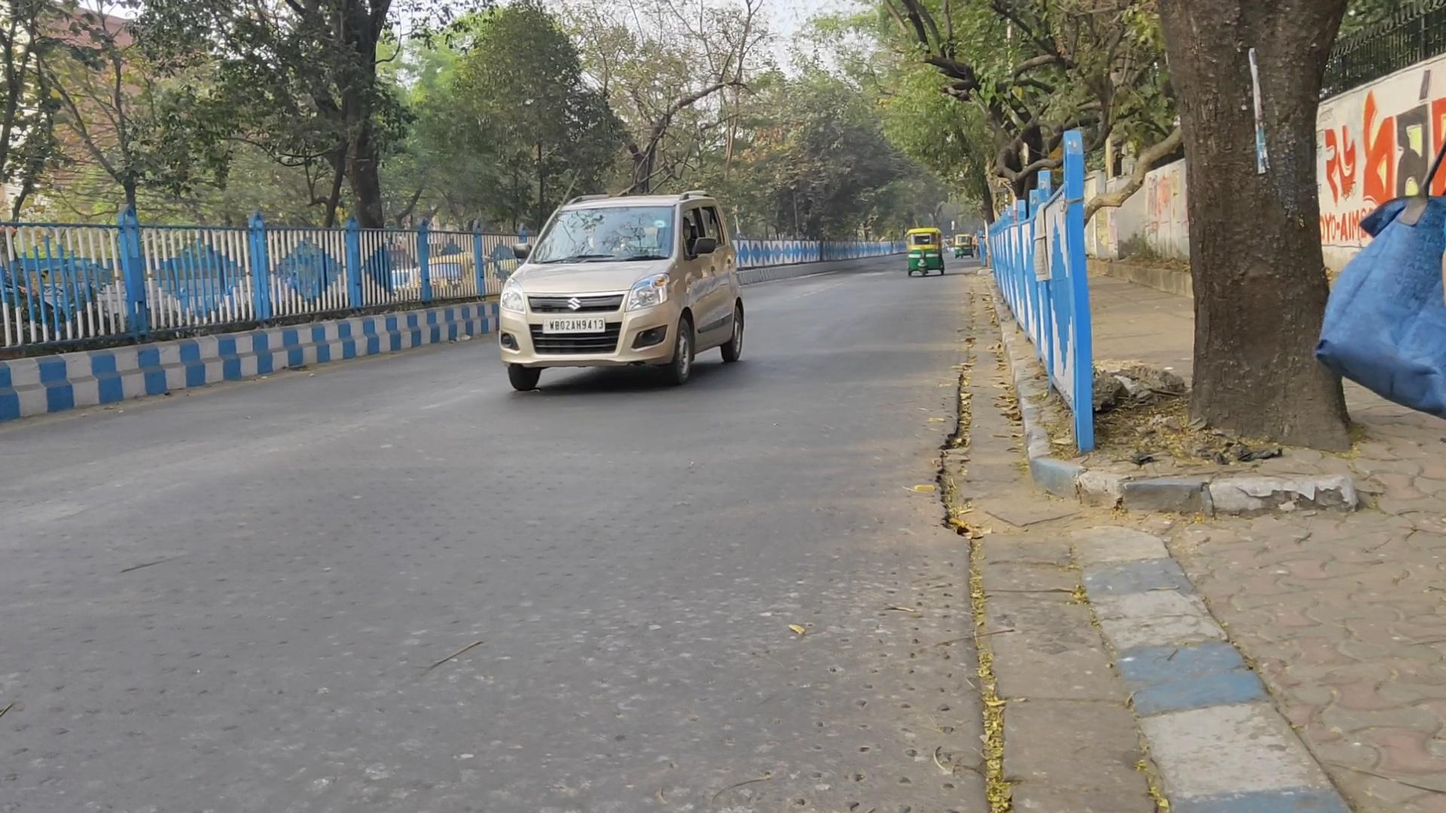Auto: (903, 227, 944, 279), (953, 233, 975, 259)
car: (496, 190, 746, 393)
